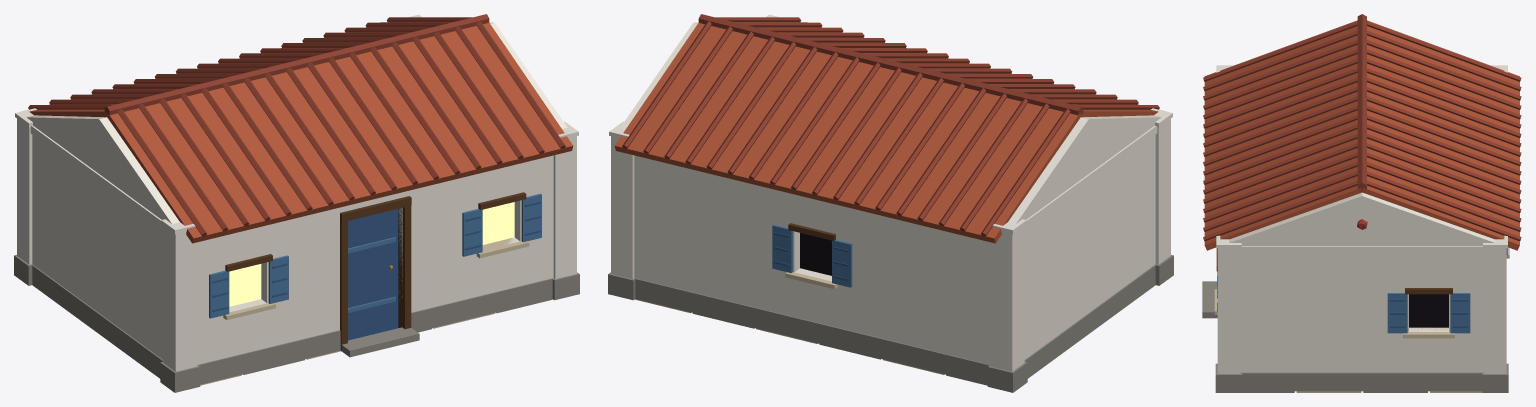
The model's file is House_Long.glb.
3 views of the same model, side by side, from view 1: azimuth 30°, elevation 25°; view 2: azimuth 150°, elevation 25°; view 3: azimuth 270°, elevation 25° (orthographic). The views are drawn at different scales.
Parts seen in each view (by area): view 1: Roof_Gable.003, Roof_Gable.005, Roof_Gable.004, Wall_Door.002, Wall_WindowLit.002, Wall_WindowLit.001, Wall_Plain.009, Wall_Plain.008, Wall_Corner.008, Roof_GableEnd.004, Wall_Corner.006, Wall_Corner.007 (+1 smaller); view 2: Roof_Gable.003, Roof_Gable.005, Roof_Gable.004, Wall_Window.004, Wall_Plain.006, Wall_Plain.005, Wall_Plain.008, Wall_Plain.009, Wall_Corner.007, Roof_GableEnd.004, Wall_Corner.005, Wall_Corner.008 (+1 smaller); view 3: Roof_Gable.005, Roof_Gable.004, Roof_Gable.003, Wall_Plain.007, Wall_Window.005, Roof_GableEnd.003, Wall_Corner.006, Wall_Corner.005, Wall_Door.002.
Boxes of the visible parts, box(x1,y1,x2,y2) form: Roof_Gable.003: box(28, 76, 320, 243); Roof_Gable.005: box(281, 14, 573, 181); Roof_Gable.004: box(155, 45, 446, 212); Wall_Door.002: box(311, 183, 438, 357); Wall_WindowLit.002: box(438, 155, 553, 326); Wall_WindowLit.001: box(197, 214, 311, 384); Wall_Plain.009: box(30, 125, 99, 332); Wall_Plain.008: box(97, 174, 163, 378); Wall_Corner.008: box(160, 219, 200, 392); Roof_GableEnd.004: box(27, 115, 179, 223); Wall_Corner.006: box(552, 121, 579, 300); Wall_Corner.007: box(14, 108, 36, 285); Roof_Gable.003: box(867, 76, 1159, 243); Roof_Gable.005: box(614, 14, 906, 181); Roof_Gable.004: box(741, 45, 1032, 212); Wall_Window.004: box(749, 183, 876, 357); Wall_Plain.006: box(634, 155, 749, 326); Wall_Plain.005: box(876, 214, 990, 384); Wall_Plain.008: box(1088, 125, 1157, 332); Wall_Plain.009: box(1024, 174, 1090, 378); Wall_Corner.007: box(987, 219, 1027, 392); Roof_GableEnd.004: box(1008, 115, 1160, 223); Wall_Corner.005: box(608, 121, 635, 300); Wall_Corner.008: box(1151, 108, 1173, 285); Roof_Gable.005: box(1203, 126, 1521, 250); Roof_Gable.004: box(1203, 70, 1521, 188); Roof_Gable.003: box(1203, 14, 1521, 132); Wall_Plain.007: box(1240, 246, 1362, 391); Wall_Window.005: box(1362, 246, 1484, 391); Roof_GableEnd.003: box(1229, 192, 1495, 245); Wall_Corner.006: box(1215, 235, 1242, 392); Wall_Corner.005: box(1482, 235, 1508, 392); Wall_Door.002: box(1202, 272, 1217, 318).
Bounding box in the file's own units: 6.42 × 3.49 × 4.79.
